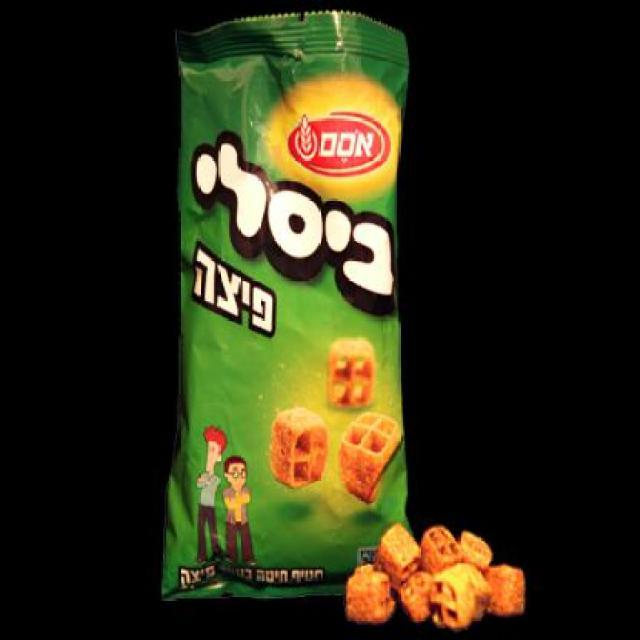Chips: (161, 11, 430, 618)
Chips packaged: (342, 514, 546, 638)
